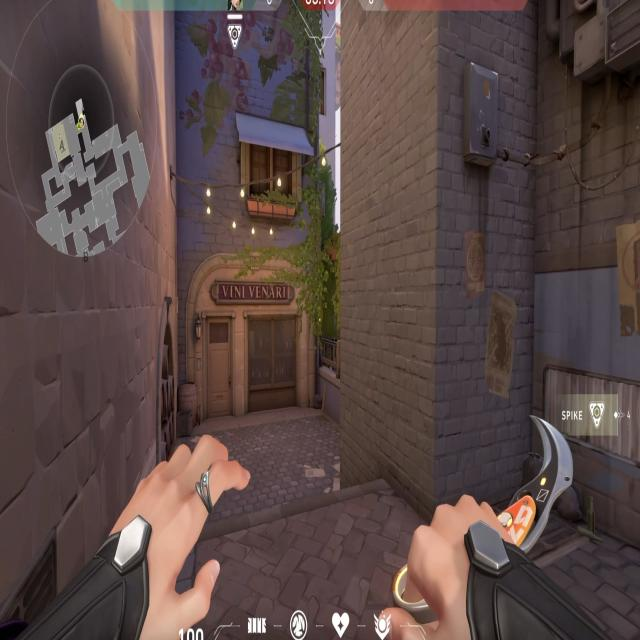Wine: (200, 256, 543, 480)
